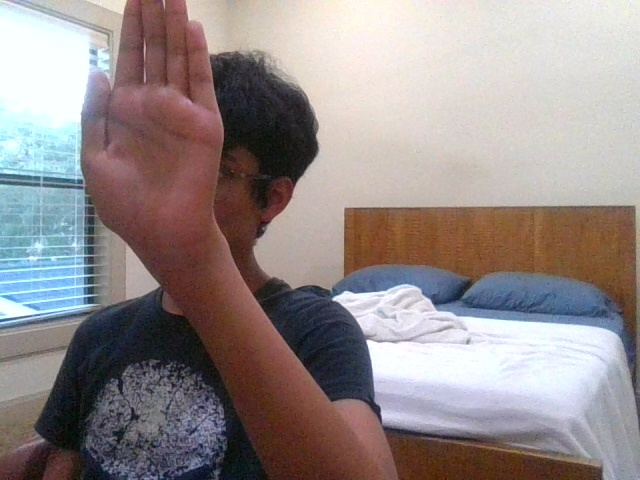hello: (81, 1, 224, 237)
